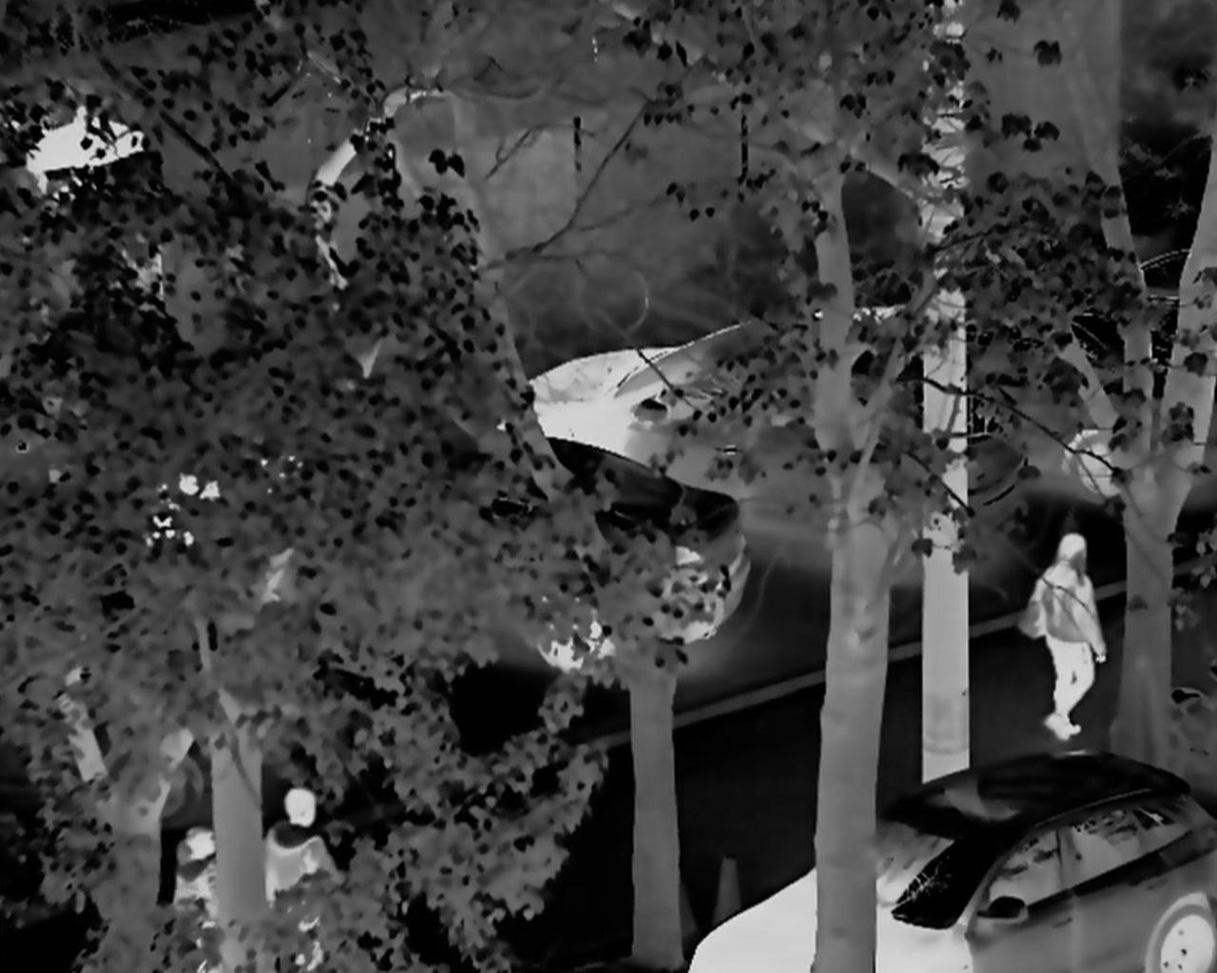person: (1014, 520, 1103, 742), (264, 789, 353, 968), (164, 825, 233, 973)
